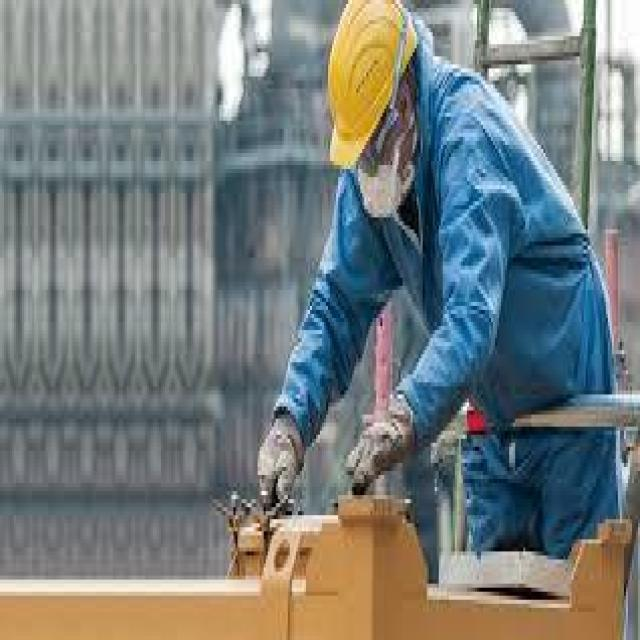safety_helmet: (284, 102, 583, 436)
